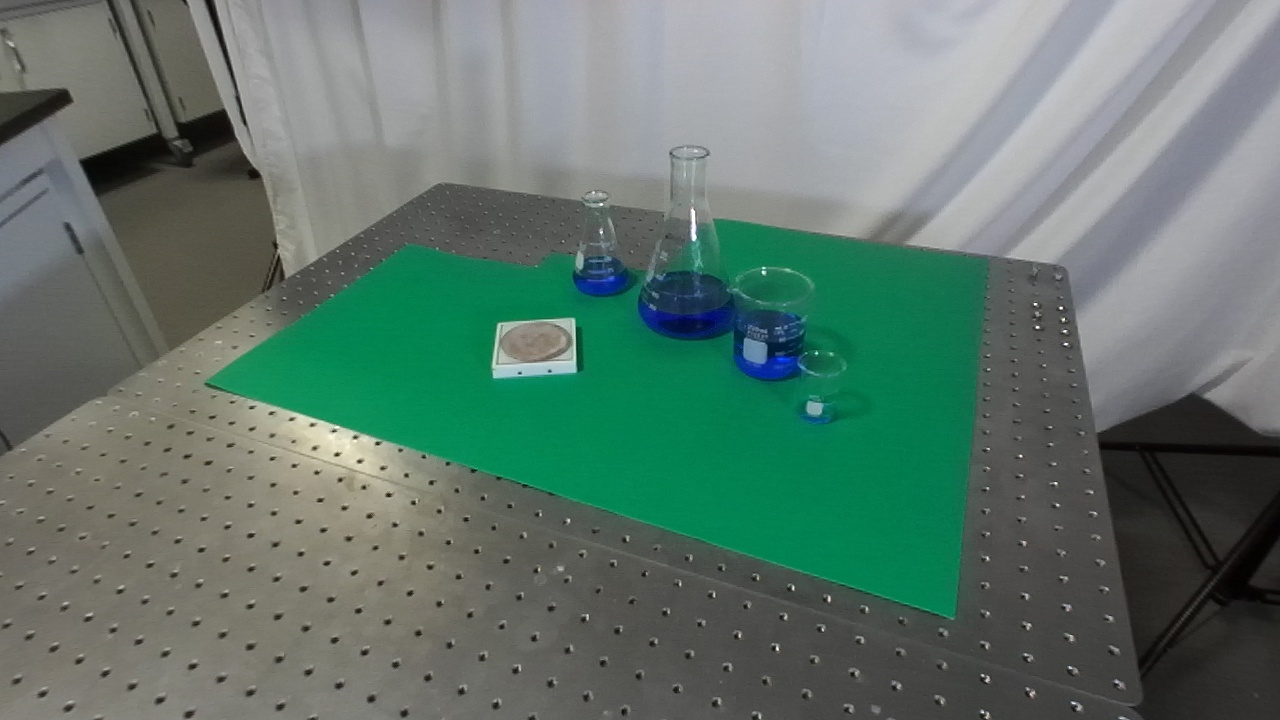glass: (634, 140, 743, 346), (728, 264, 817, 386), (565, 187, 633, 298), (792, 346, 852, 429)
plate: (485, 313, 581, 386)
